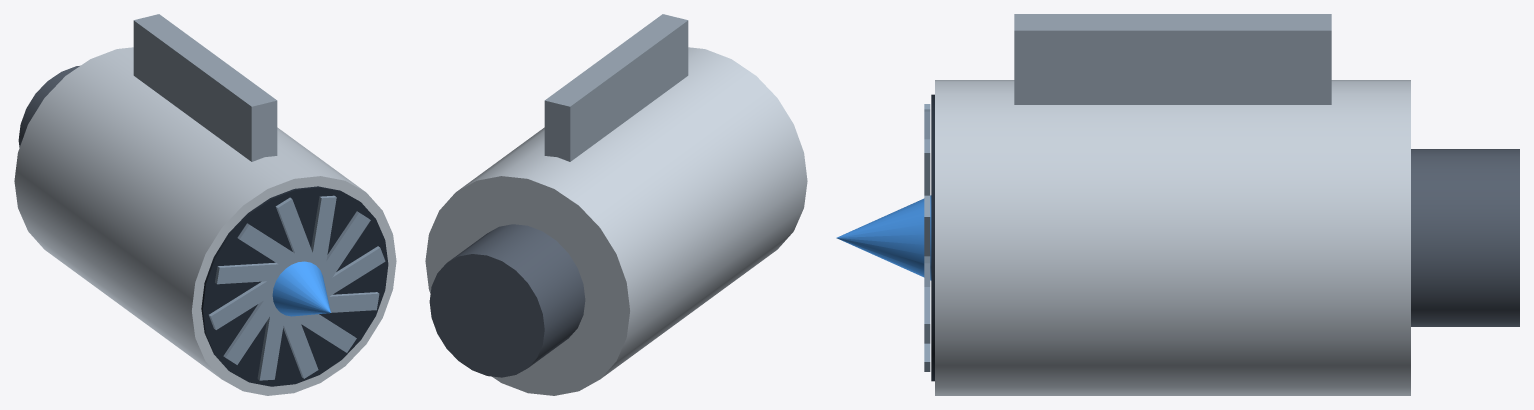
Rendered from avi-jet-engine.glb.
3 views of the same model, side by side, from view 1: azimuth 30°, elevation 25°; view 2: azimuth 150°, elevation 25°; view 3: azimuth 270°, elevation 25° (orthographic). The views are drawn at different scales.
Parts seen in each view (by area): view 1: nacelle, intake, pylon, spinner, fan-blade-8, fan-blade-3, fan-blade-6, fan-blade-7, fan-blade-9, fan-blade-2, fan-blade-4, fan-blade-1 (+5 smaller); view 2: nacelle, exhaust, pylon; view 3: nacelle, pylon, exhaust, spinner, intake.
Boxes of the visible parts, <box> form: nacelle: <box>14,47,396,395</box>; intake: <box>201,186,388,386</box>; pylon: <box>133,14,277,161</box>; spinner: <box>272,261,330,316</box>; fan-blade-8: <box>223,285,275,364</box>; fan-blade-3: <box>311,195,336,277</box>; fan-blade-6: <box>215,262,292,284</box>; fan-blade-7: <box>209,276,278,329</box>; fan-blade-9: <box>257,308,284,380</box>; fan-blade-2: <box>321,211,370,286</box>; fan-blade-4: <box>275,197,312,262</box>; fan-blade-1: <box>324,246,385,297</box>; nacelle: <box>425,47,807,395</box>; exhaust: <box>429,224,585,377</box>; pylon: <box>544,14,688,161</box>; nacelle: <box>935,80,1410,395</box>; pylon: <box>1014,14,1331,104</box>; exhaust: <box>1411,149,1519,326</box>; spinner: <box>836,195,931,280</box>; intake: <box>931,94,934,381</box>.
Bounding box in the file's own units: 1.6 × 2 × 3.45.
